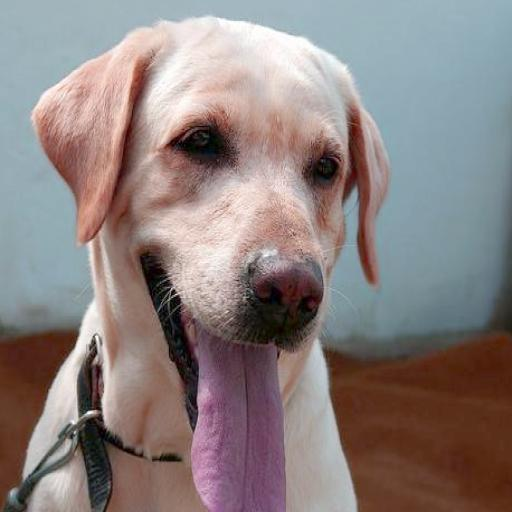dog_face: (30, 10, 395, 391)
